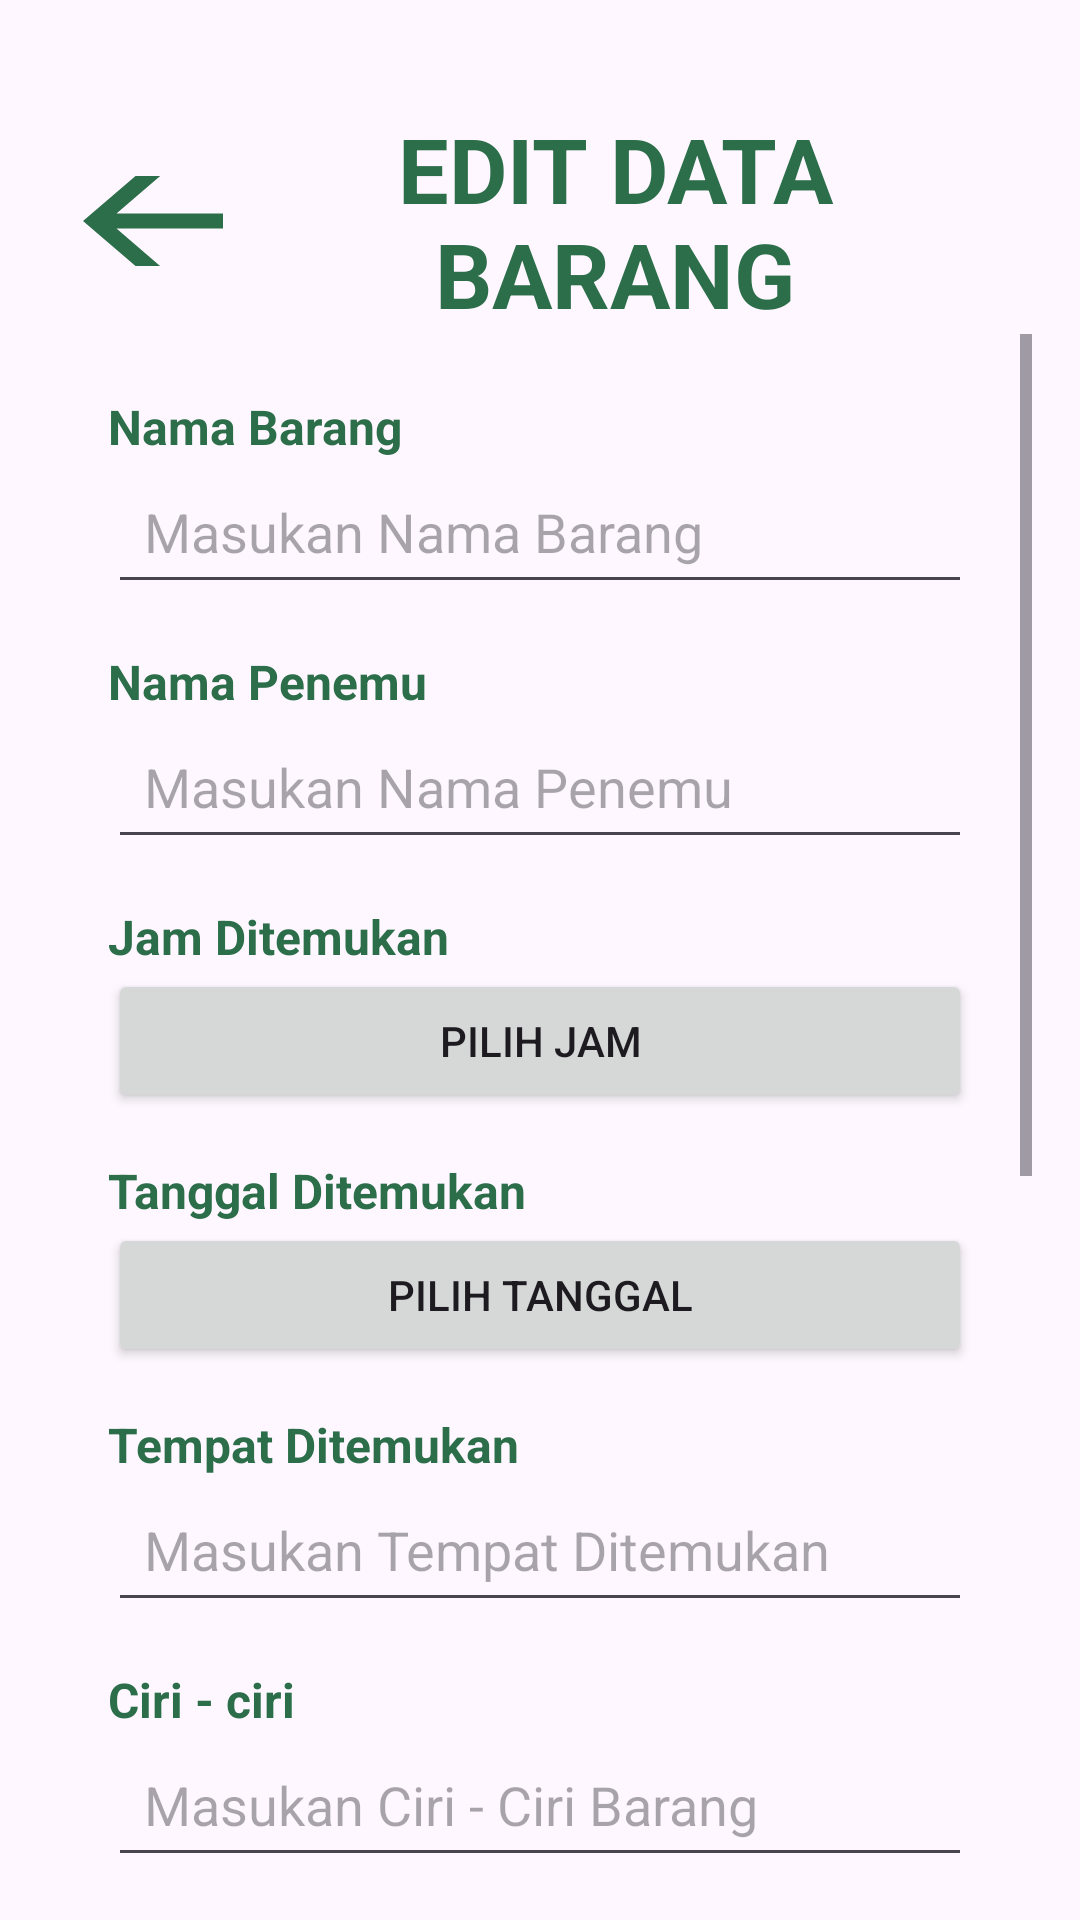

Point at icon controls on the screen. Image size 1080px x 1920px, points as [x,y].
Kembali: [153,221]
